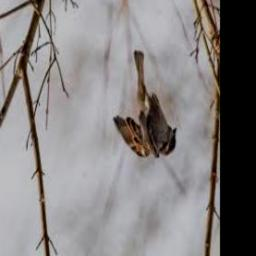Sparrow: (113, 51, 177, 158)
